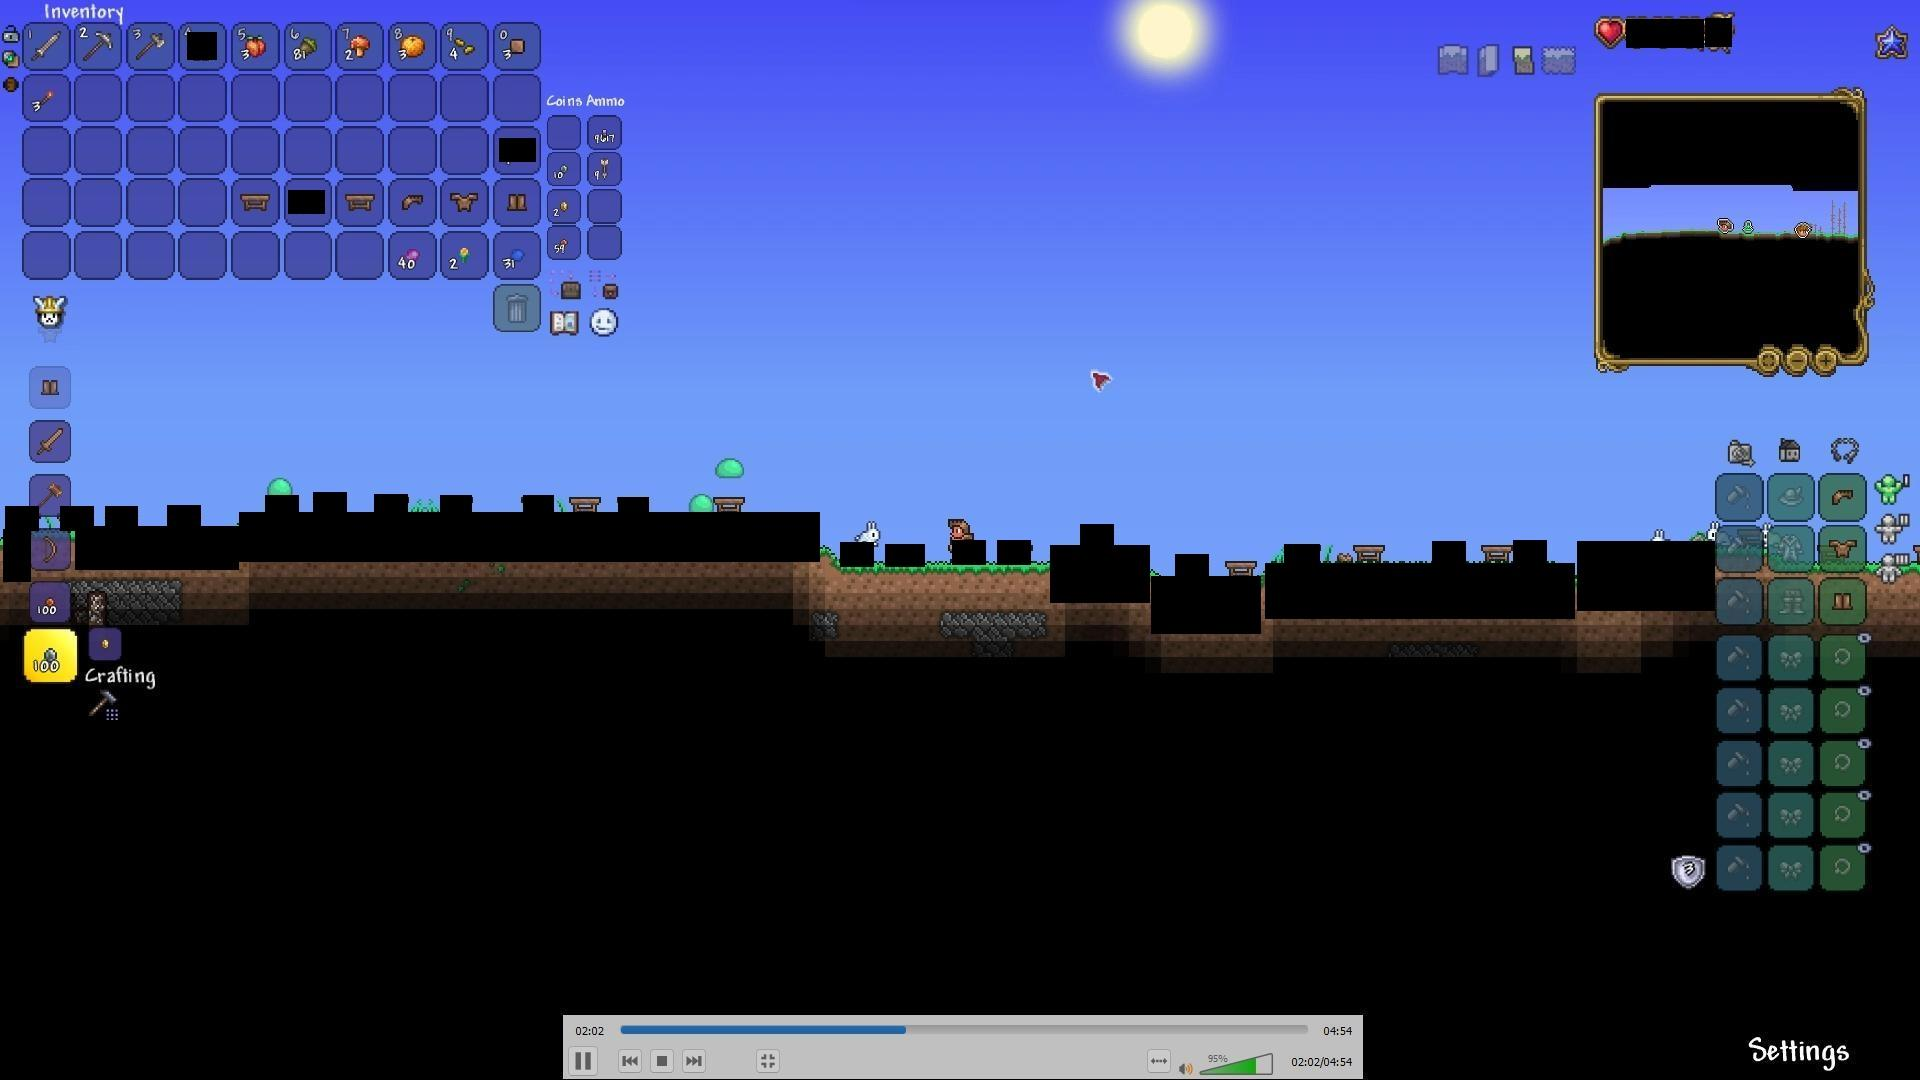breastplate: (1832, 537, 1859, 558), (448, 190, 477, 210)
dirt: (823, 563, 1051, 613)
heart: (1598, 16, 1626, 44)
helmet: (1828, 484, 1857, 509), (400, 189, 429, 214)
legs: (1832, 587, 1858, 615), (505, 186, 530, 214)
slime: (715, 454, 745, 485), (262, 468, 294, 496), (687, 493, 715, 518)
workbench: (237, 191, 274, 214), (342, 191, 378, 214), (570, 489, 603, 513), (713, 492, 746, 516), (1480, 542, 1513, 566), (1226, 556, 1259, 580), (1352, 545, 1385, 566)
